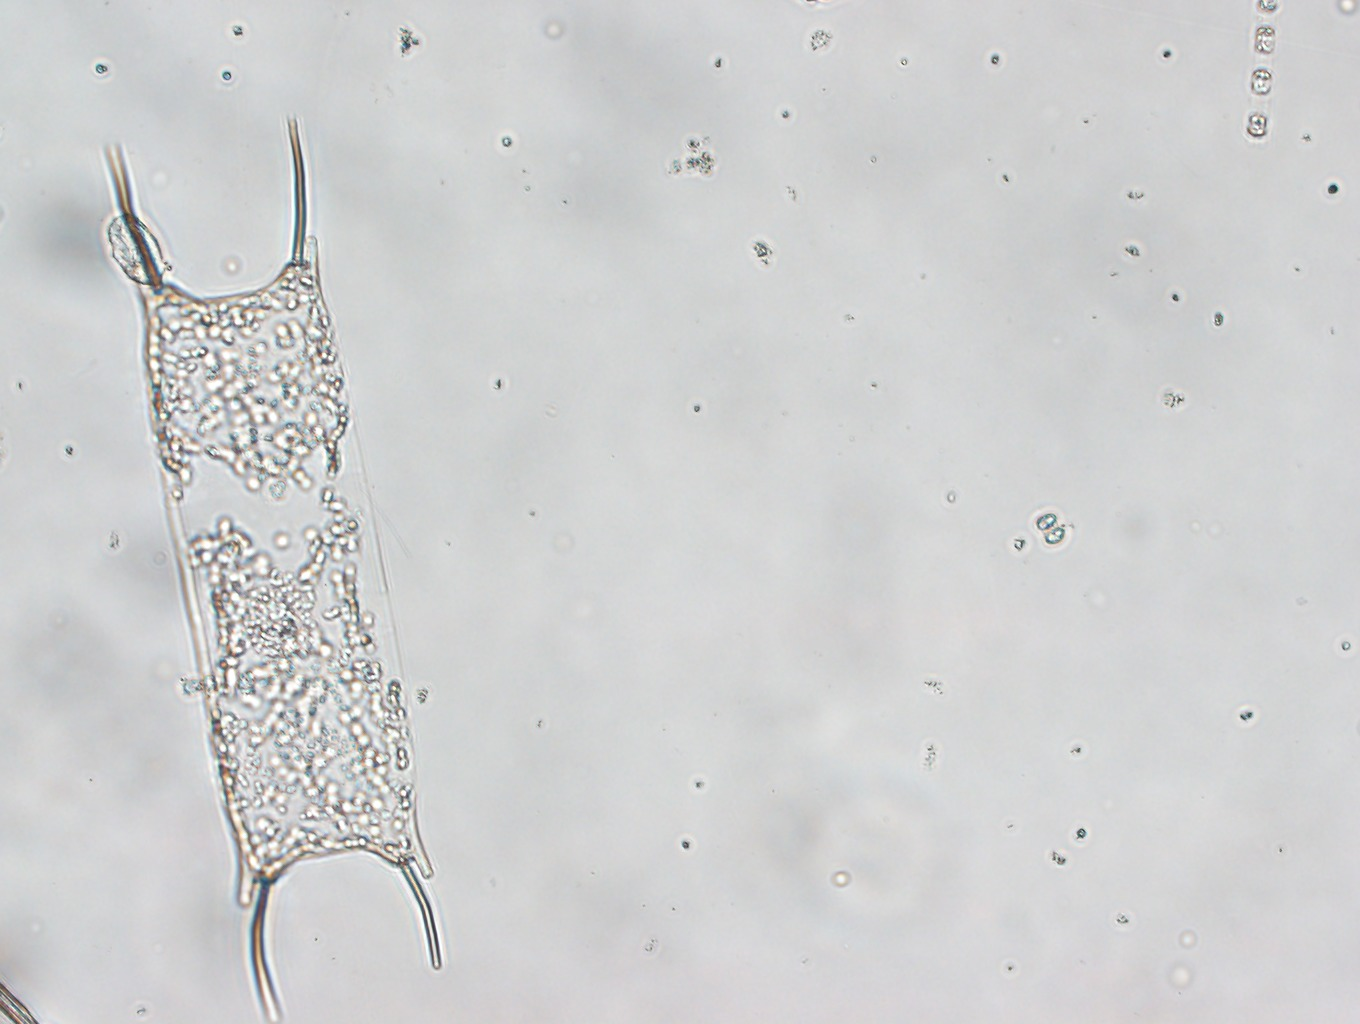biddulphia: (80, 113, 457, 1019)
